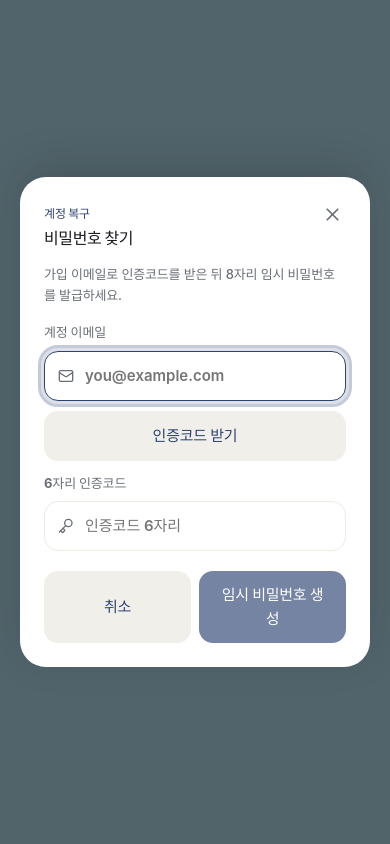
it: ForgotPasswordModal › 가입 이메일로 비밀번호 찾기 인증코드를 요청한다
Type "traveler@example.com" into the field labelled "계정 이메일" at (195, 376), box [44,351,346,401]
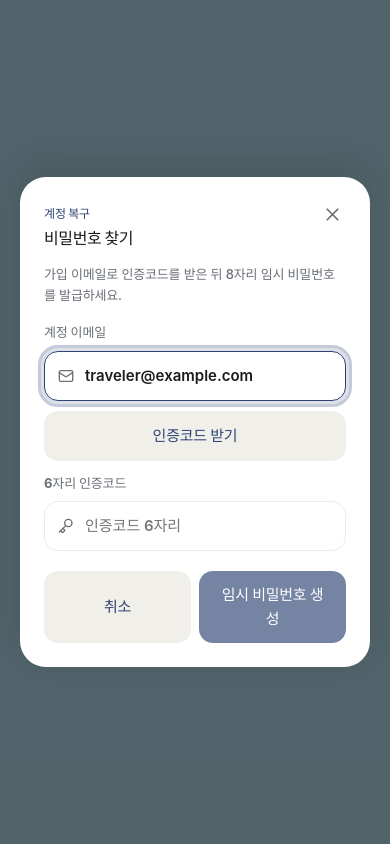
Click the button "인증코드 받기" at (195, 436), box [44,411,346,461]
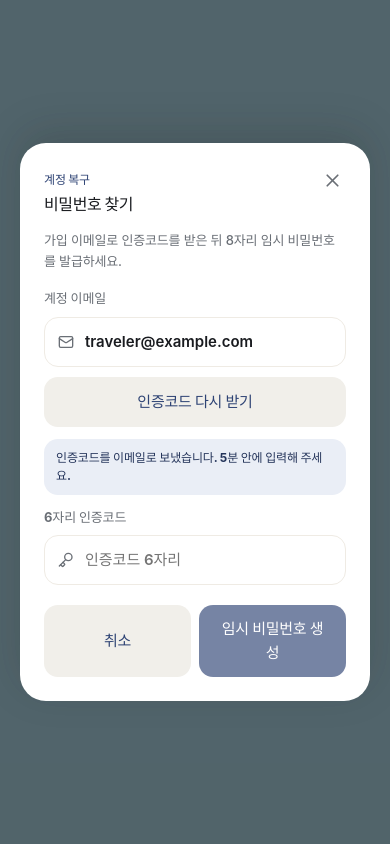
Check: the message shows "인증코드를 이메일로 보냈습니다", box [56,450,322,483]
